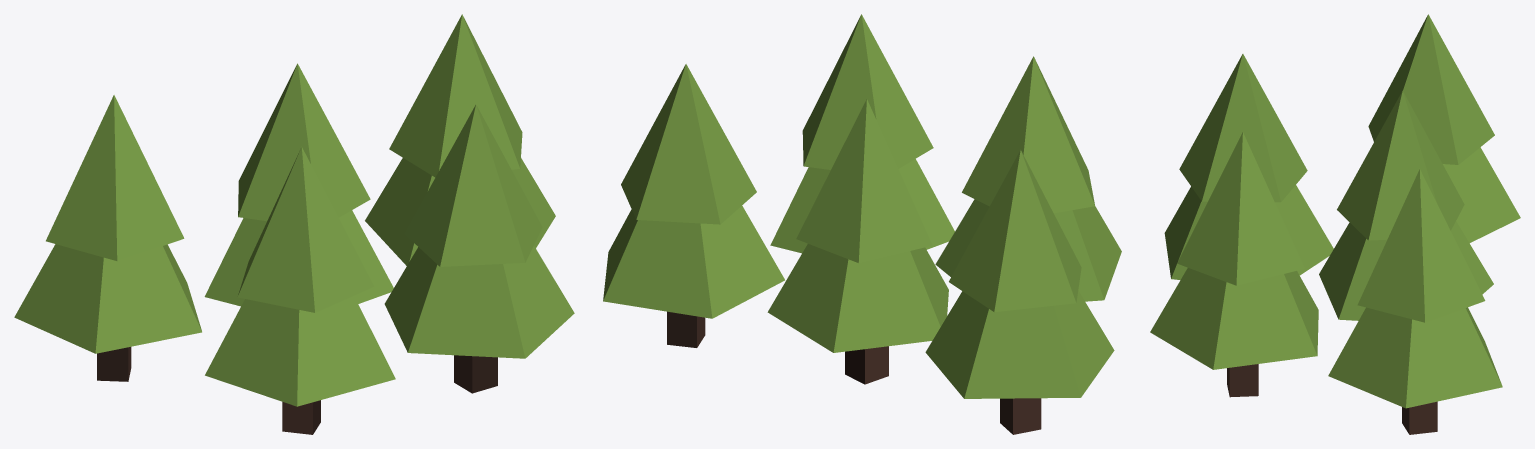
File: TB_Env_TreeDB_C_Large.FBX
3 renders of one model, left to right at view 1: azimuth 30°, elevation 25°; view 2: azimuth 150°, elevation 25°; view 3: azimuth 270°, elevation 25°, orthographic. The views are drawn at different scales.
Parts seen in each view (by area): view 1: TB_Env_TreeDB_C_Large; view 2: TB_Env_TreeDB_C_Large; view 3: TB_Env_TreeDB_C_Large.
Boxes of the visible parts, x1=… form: TB_Env_TreeDB_C_Large: x1=14, y1=14, x2=574, y2=434; TB_Env_TreeDB_C_Large: x1=603, y1=14, x2=1121, y2=434; TB_Env_TreeDB_C_Large: x1=1150, y1=14, x2=1520, y2=434.
Bounding box in the file's own units: 9.49 × 4.98 × 6.47.
